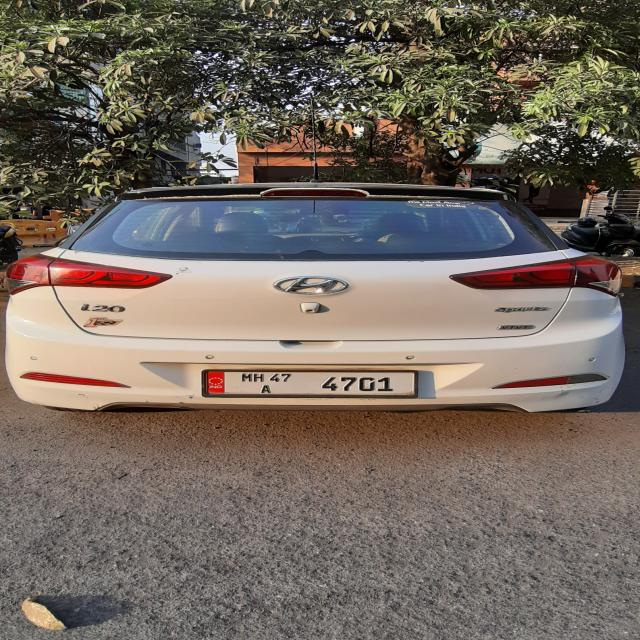Number-Plate: (203, 370, 415, 400)
